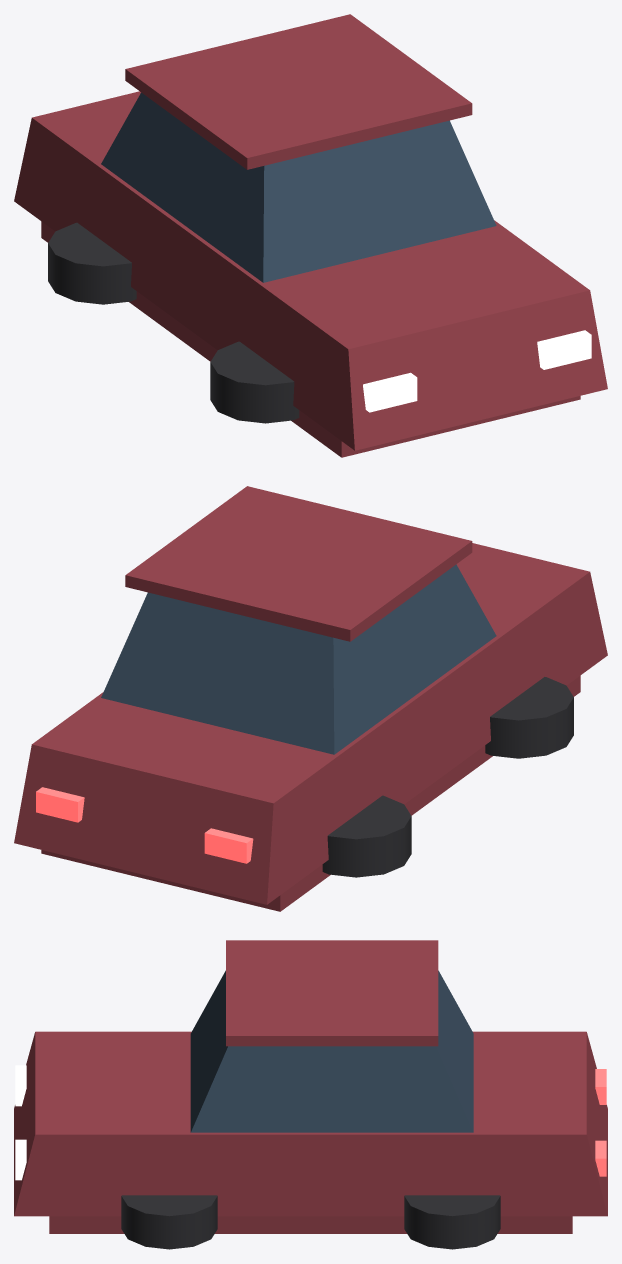
File: car_sedan.glb
3 views of the same model, one above another, from view 1: azimuth 30°, elevation 25°; view 2: azimuth 150°, elevation 25°; view 3: azimuth 270°, elevation 25° (orthographic). The views are drawn at different scales.
Visible parts, largest first — view 1: body, cabin, roof, wheels, lights; view 2: body, cabin, roof, wheels, tail; view 3: body, cabin, roof, wheels, lights, tail.
Boxes of the visible parts, x1,y1,x2,y2 form: body: [14, 91, 607, 457]; cabin: [101, 92, 496, 282]; roof: [125, 14, 472, 169]; wheels: [48, 222, 299, 423]; lights: [363, 330, 591, 412]; body: [14, 543, 607, 911]; cabin: [101, 564, 496, 754]; roof: [125, 486, 472, 641]; wheels: [322, 677, 573, 877]; tail: [36, 787, 253, 863]; body: [14, 1031, 607, 1233]; cabin: [190, 970, 473, 1132]; roof: [226, 940, 438, 1046]; wheels: [121, 1195, 500, 1249]; lights: [15, 1065, 26, 1180]; tail: [595, 1069, 606, 1176].
Size of the model in its own units: 2.48 by 1.52 by 4.2.
